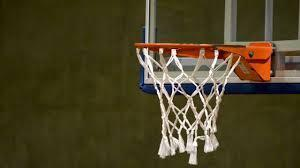rim: (134, 43, 243, 168)
